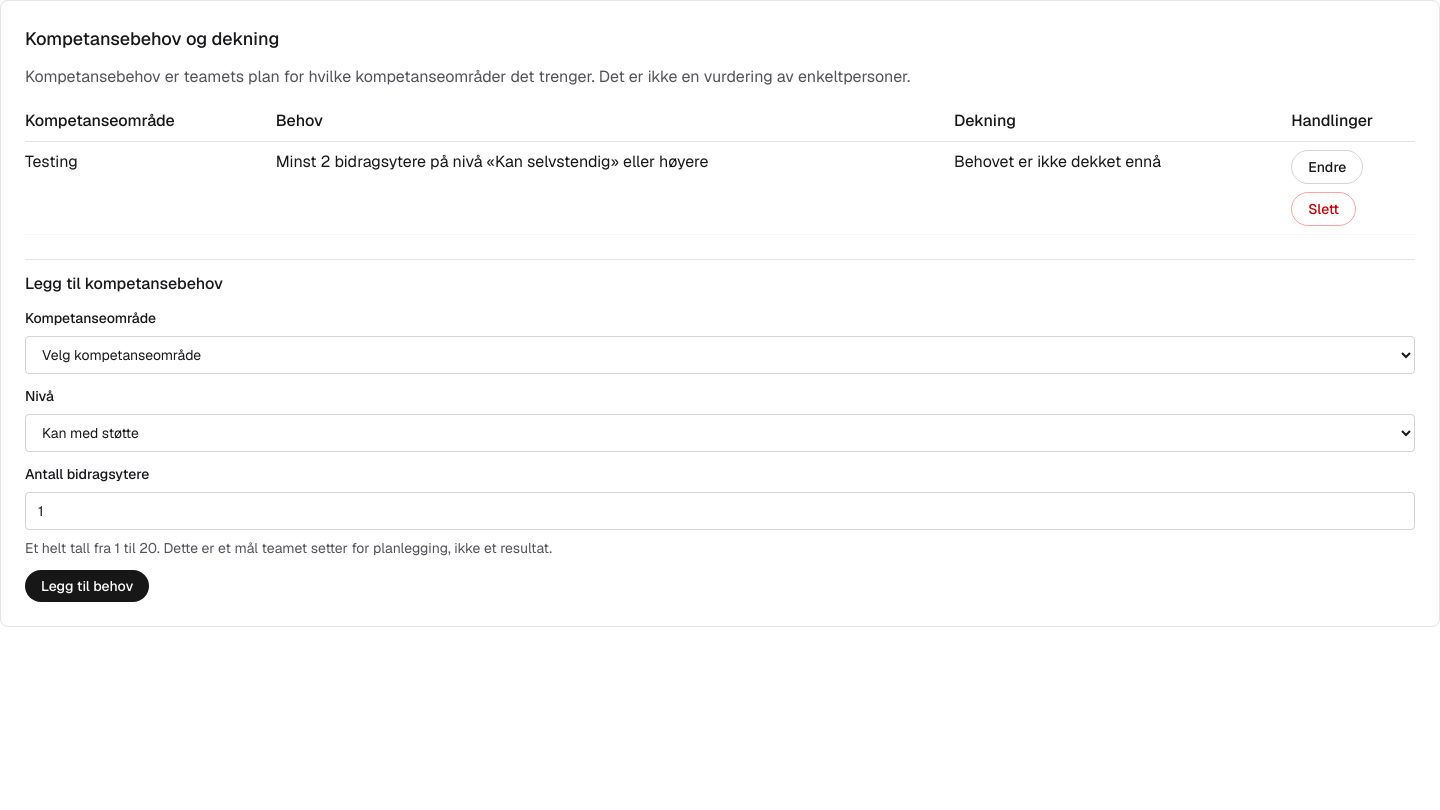
Scenario: TeamSkillNeedsSection — add › saves the chosen area, level and target, then re-reads the server and confirms in a live region
Expected: the heading "Kompetansebehov og dekning" is shown, [25,27,279,50]
Select "Sikkerhet" in the dropdown labelled "Kompetanseområde". click: coordinates (720, 355)
box: [25,336,1415,374]
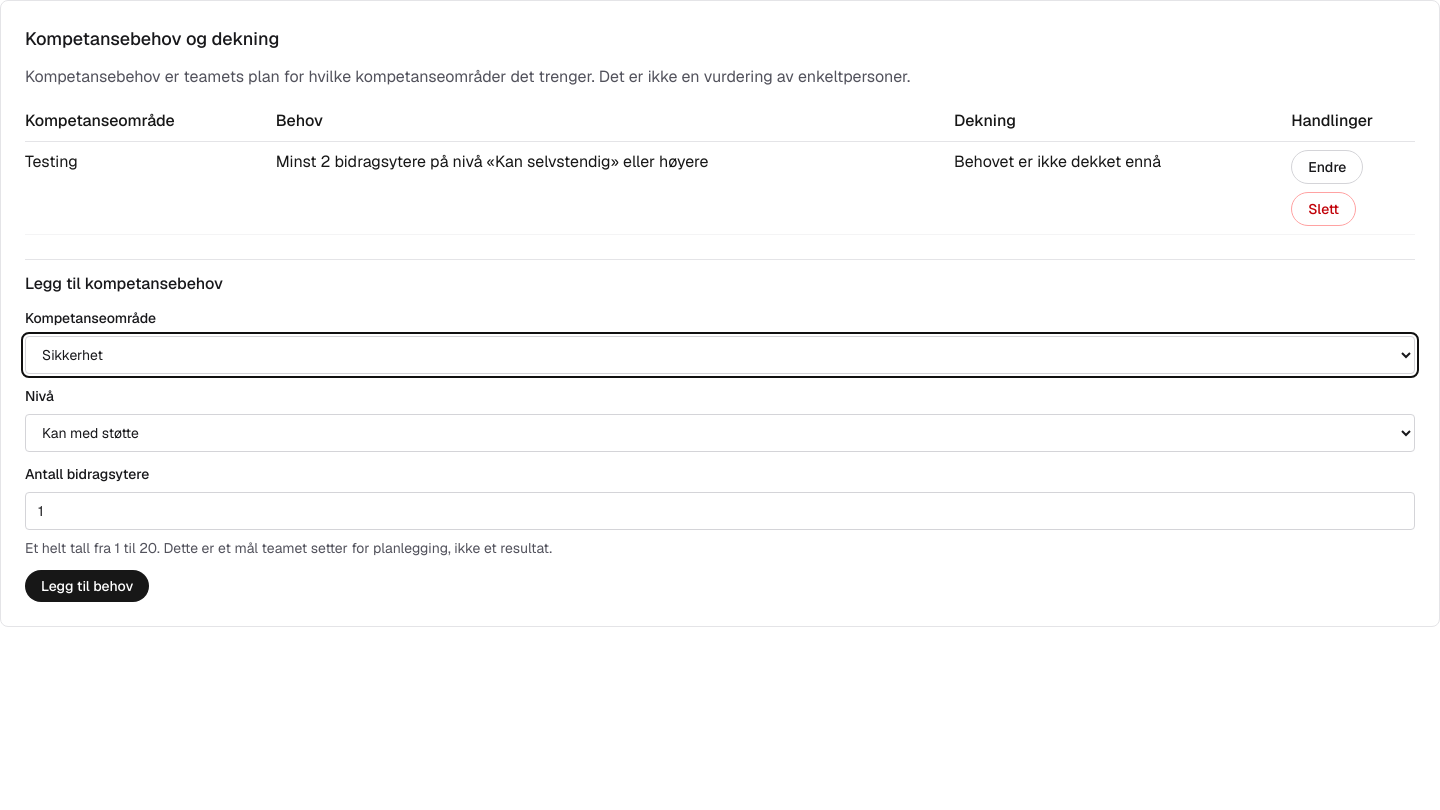
Select "Avansert" in the dropdown labelled "Nivå". click: coordinates (720, 433)
box: [25,414,1415,452]
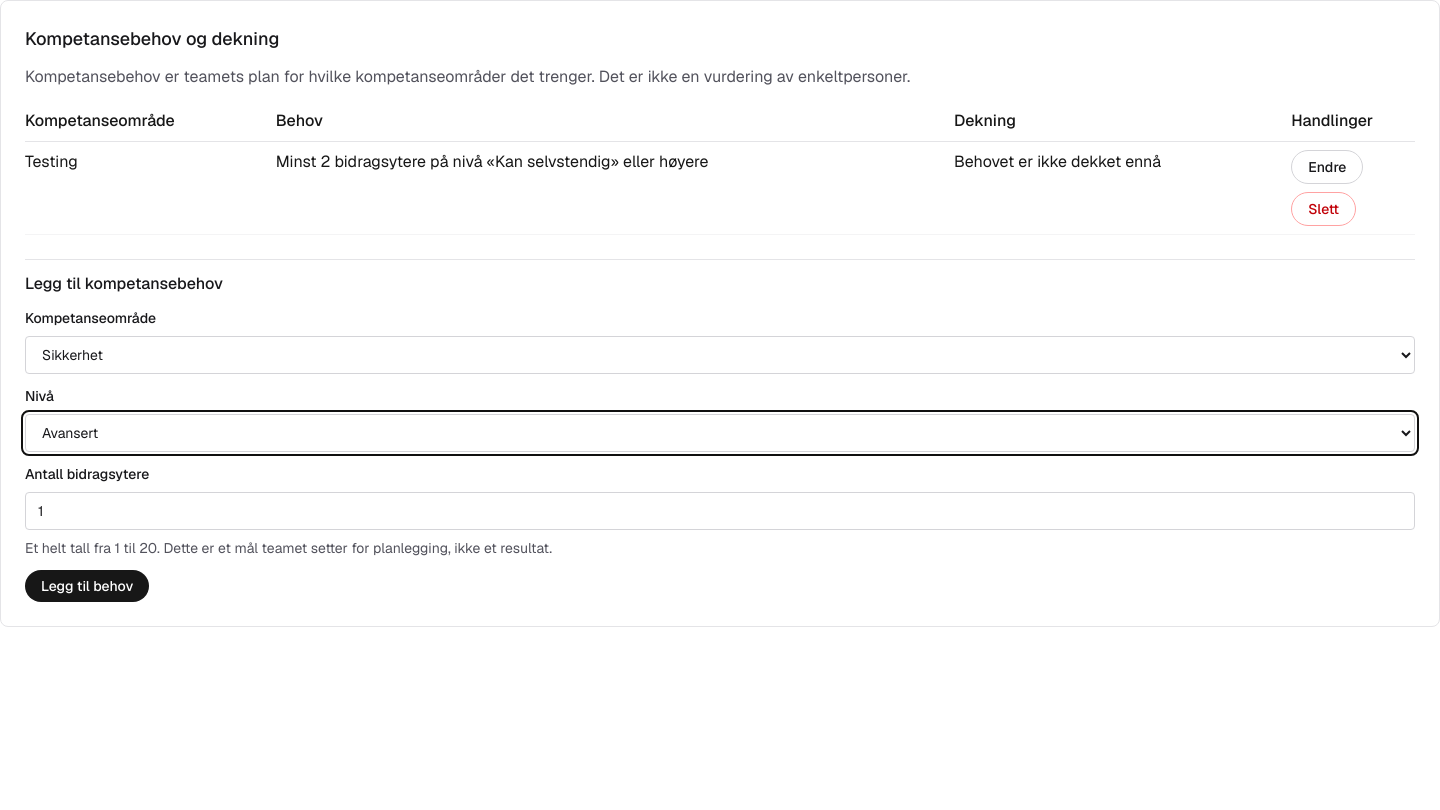
Replace the text in the number field labelled "Antall bidragsytere" with "3". click: coordinates (720, 511)
box: [25,492,1415,530]
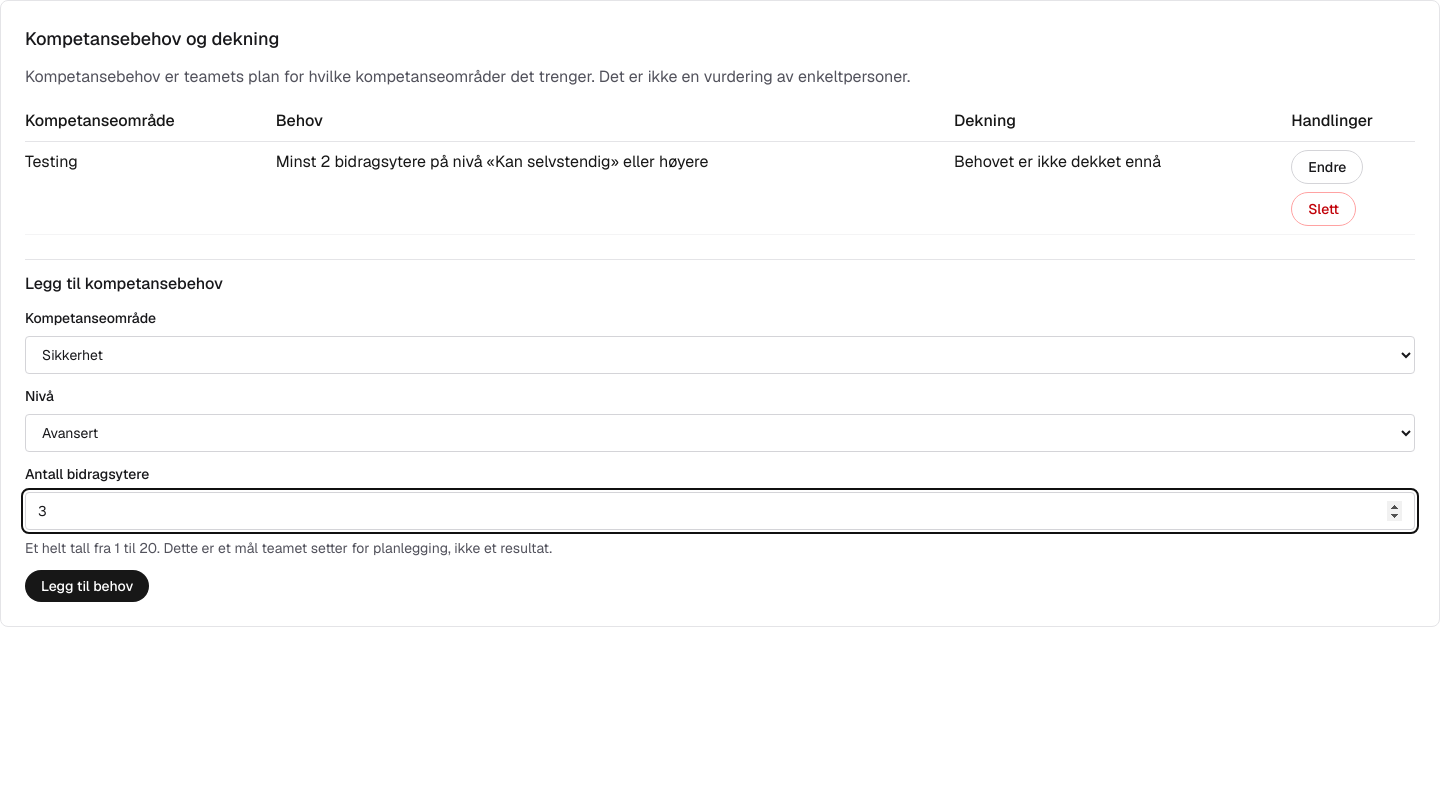
Click the button "Legg til behov". click: coordinates (87, 586)
box: [25,570,149,602]
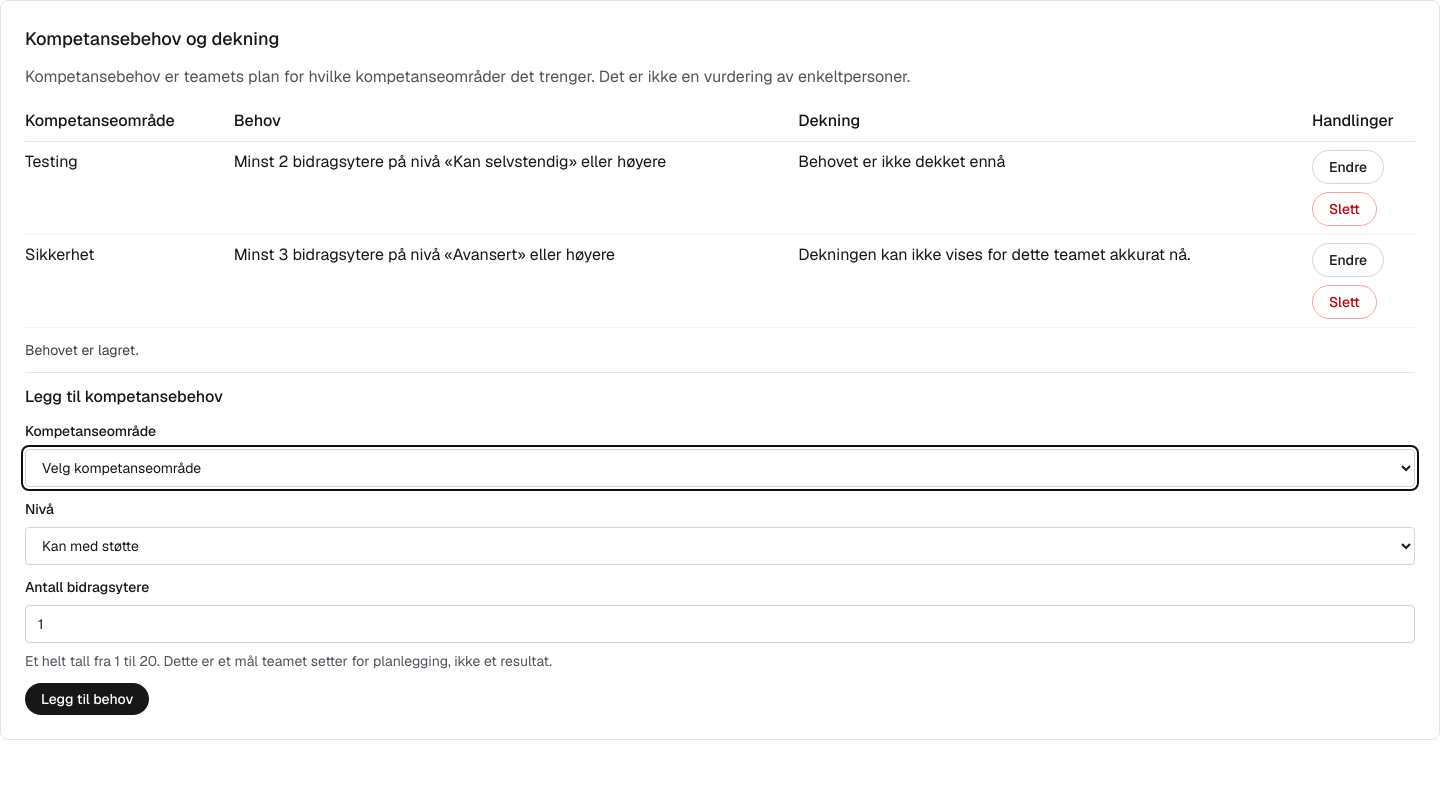
Expected: the column heading "Sikkerhet" is shown, [25,234,234,328]
Expected: the text "Behovet er lagret." is shown, [25,341,138,359]
